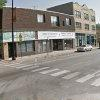Crosswalk: (13, 52, 99, 94)
